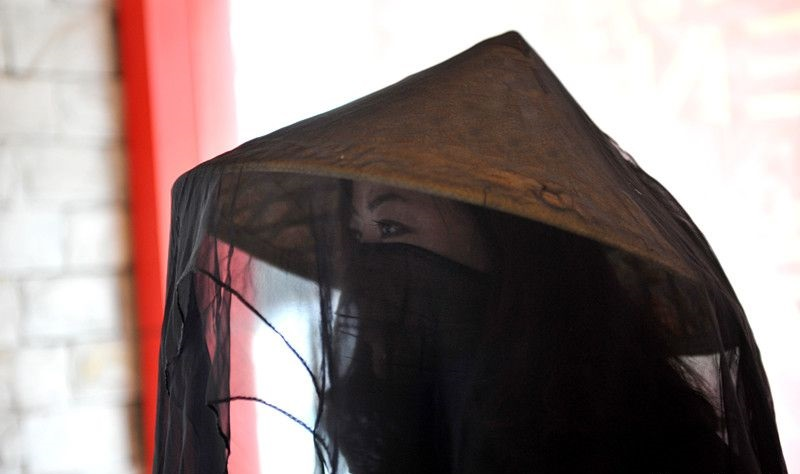face_mask: (329, 173, 453, 430)
